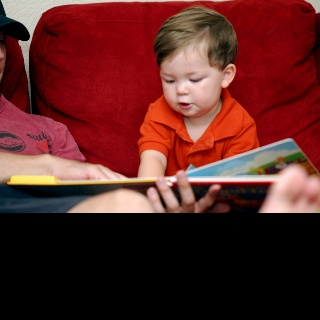without_mask: (159, 46, 221, 117)
